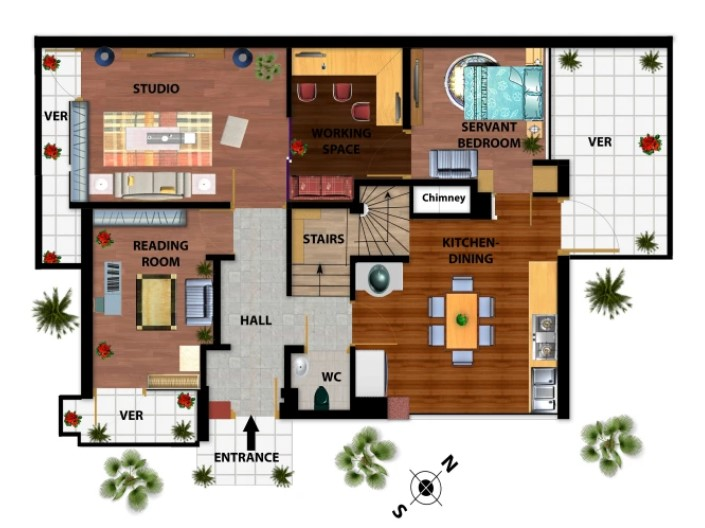room: (34, 35, 292, 208), (80, 201, 221, 396), (400, 34, 550, 186), (285, 345, 355, 418)
